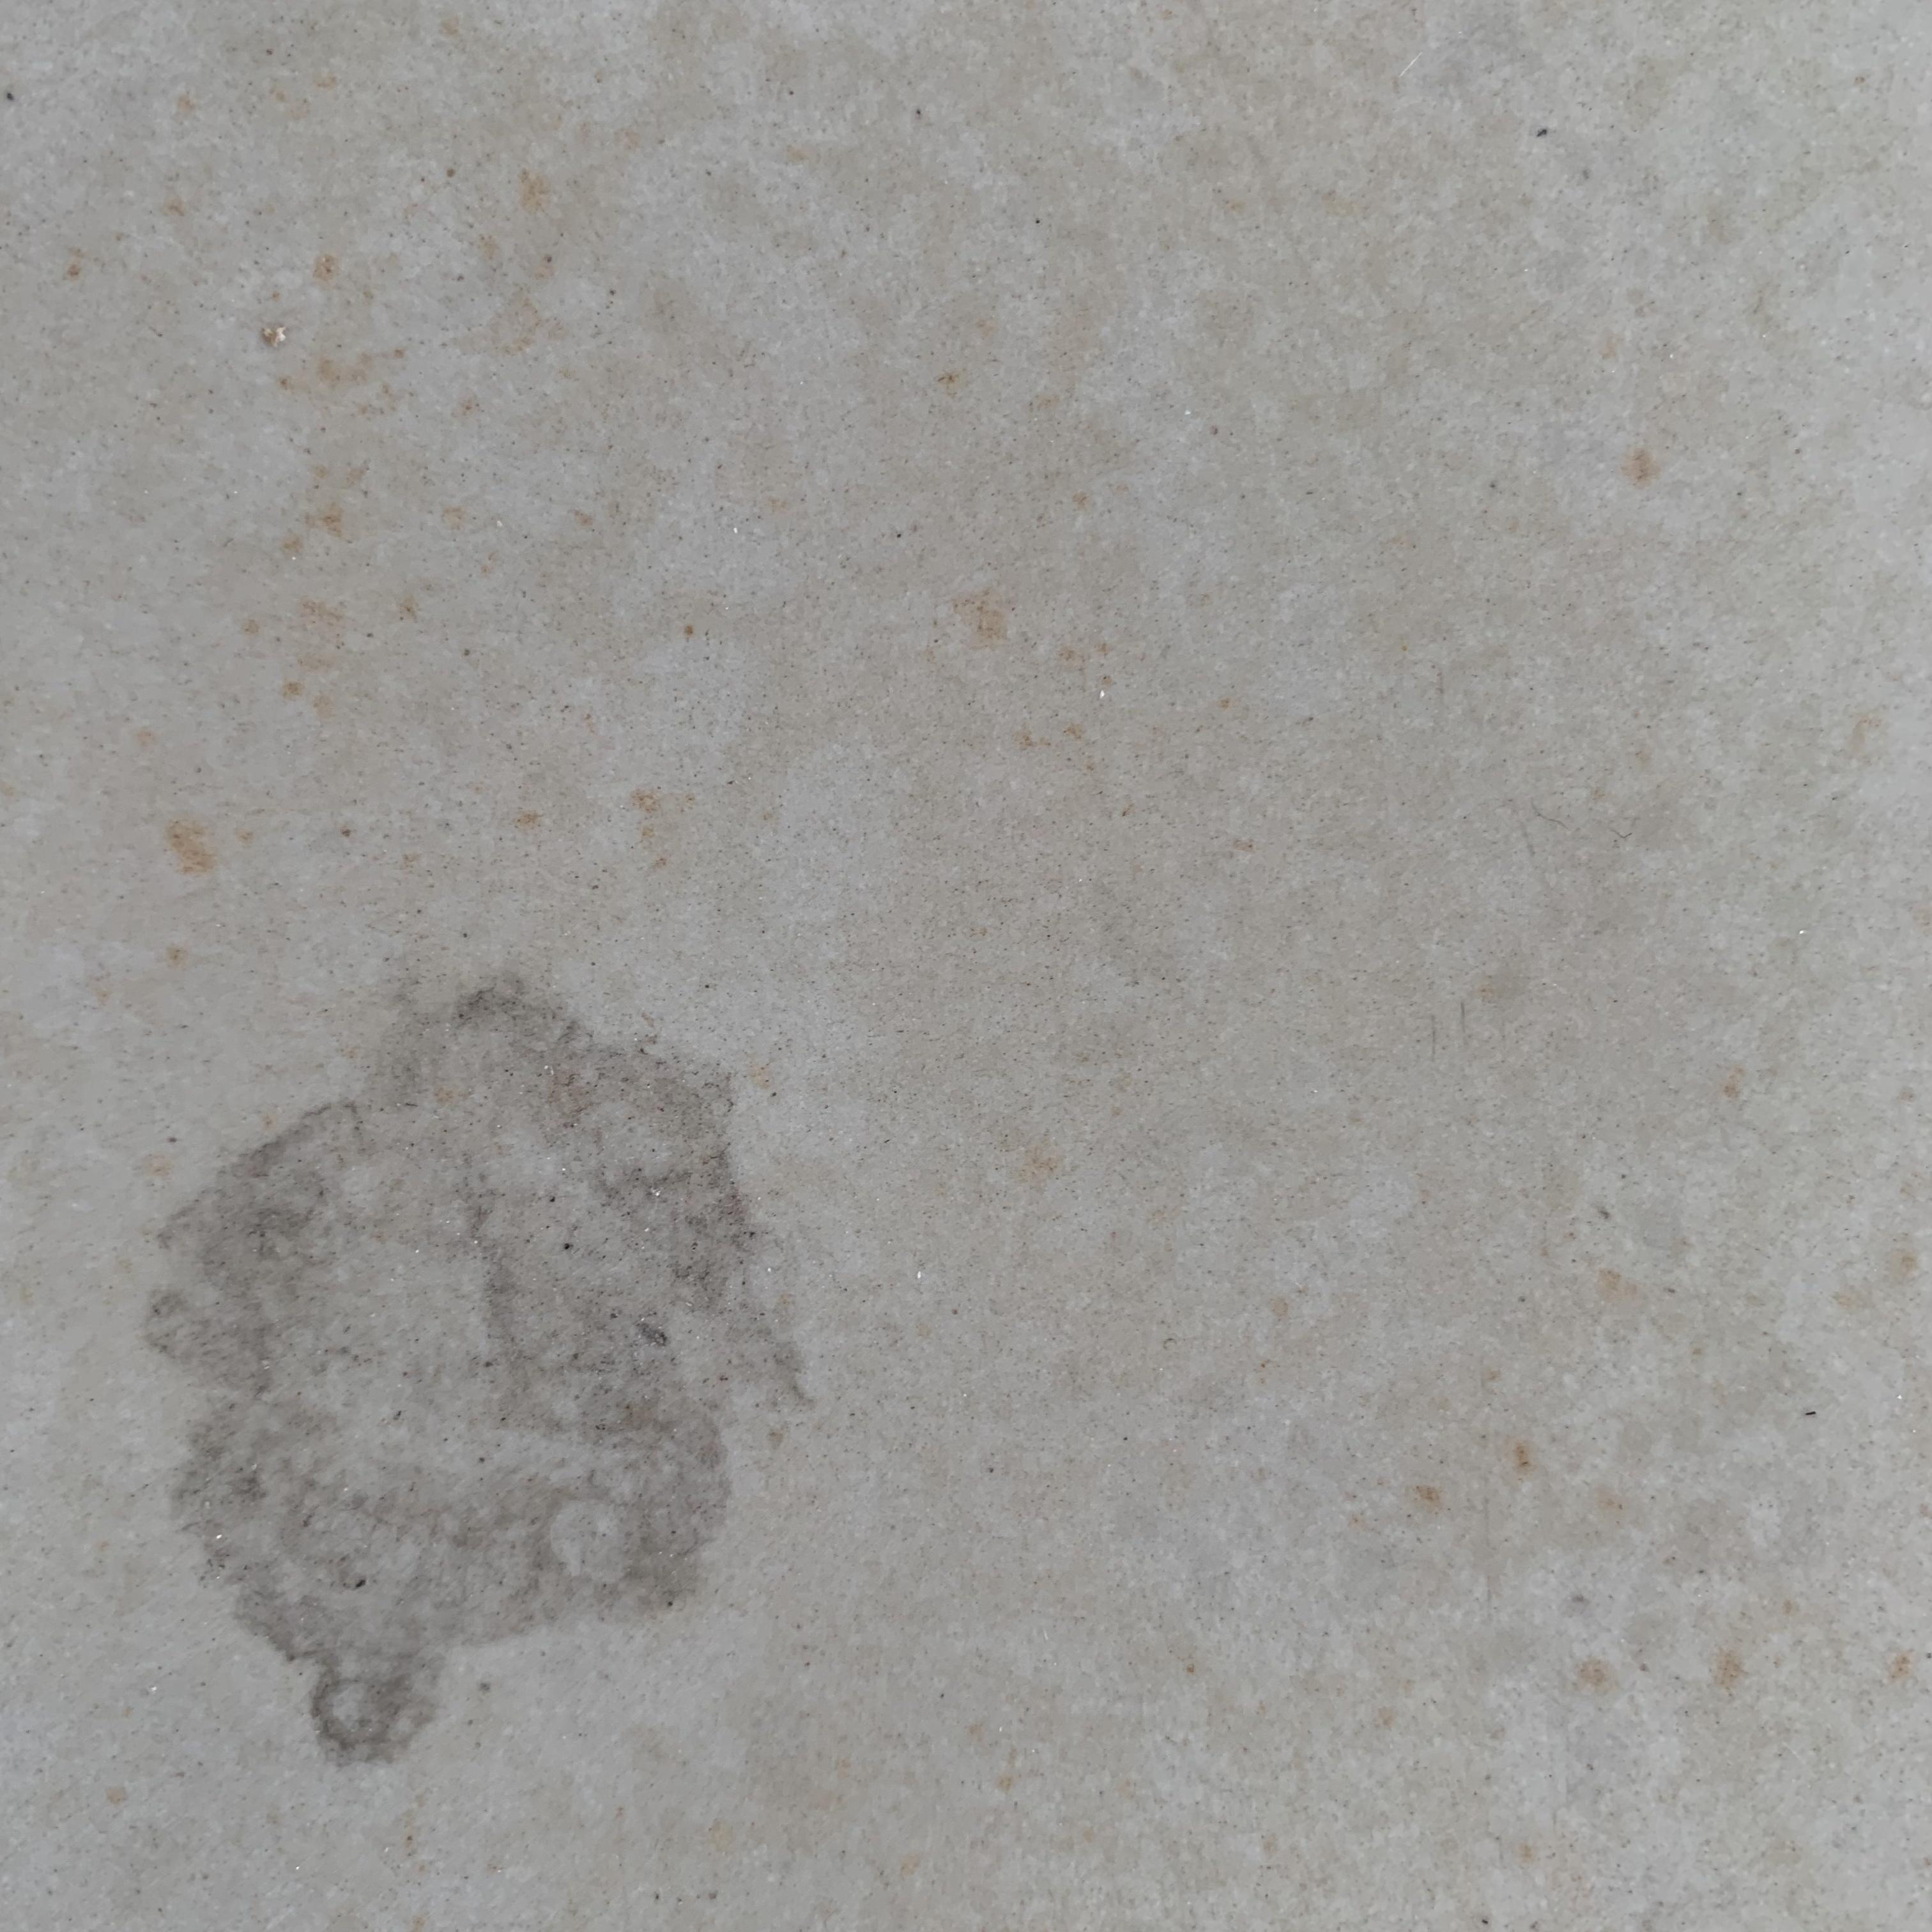grey spot: (143, 980, 814, 1764)
